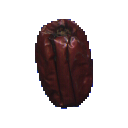ng: (29, 14, 104, 118)
